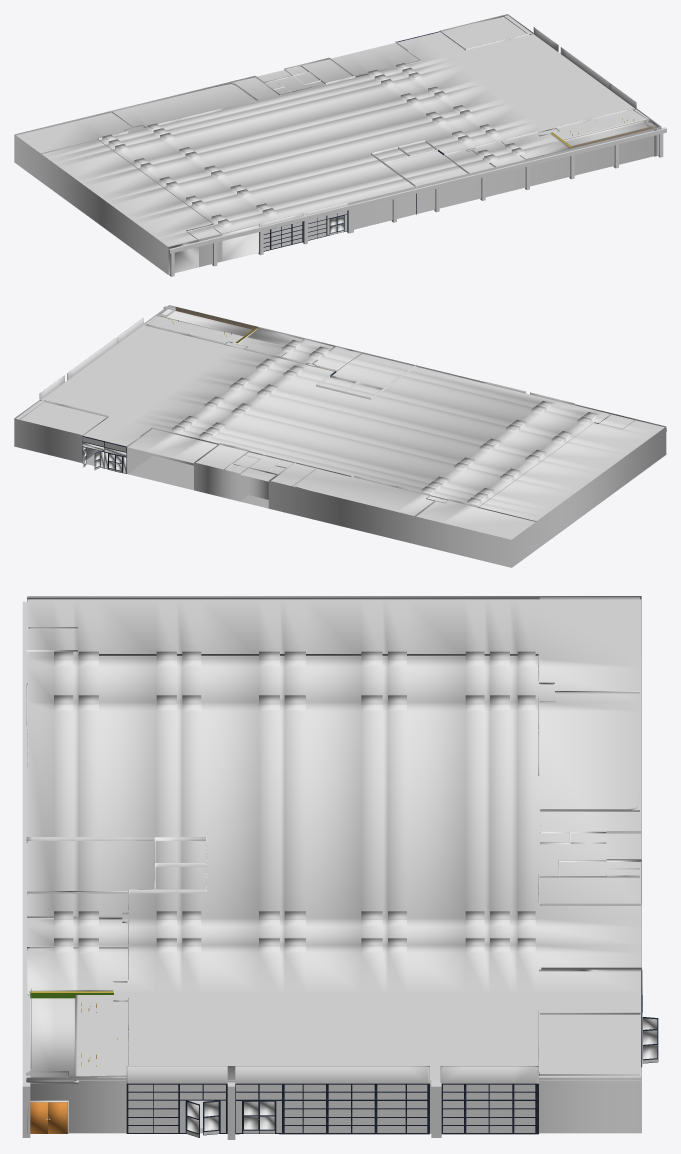
Rendered from tellus_arena.fbx.
3 renders of one model, top to bottom at view 1: azimuth 30°, elevation 25°; view 2: azimuth 150°, elevation 25°; view 3: azimuth 270°, elevation 25°, orthographic. The views are drawn at different scales.
Parts seen in each view (by area): view 1: ROOF.001, outerWalls, Pillars, walls, windows, tellus_windows.001; view 2: ROOF.001, outerWalls, windows, walls, FLOOR, r-aula_karmi.004; view 3: ROOF.001, tellus_windows.001, windows, outerWalls, walls, Pillars.
Boxes of the visible parts, <box> form: ROOF.001: <box>16,15,657,246</box>; outerWalls: <box>14,14,661,274</box>; Pillars: <box>169,52,666,276</box>; walls: <box>16,16,650,274</box>; windows: <box>98,27,636,252</box>; tellus_windows.001: <box>263,210,346,250</box>; ROOF.001: <box>16,306,664,539</box>; outerWalls: <box>14,305,666,567</box>; windows: <box>39,317,574,507</box>; walls: <box>19,308,635,521</box>; FLOOR: <box>86,450,666,567</box>; r-aula_karmi.004: <box>82,436,126,473</box>; ROOF.001: <box>27,599,641,1083</box>; tellus_windows.001: <box>128,1084,535,1133</box>; windows: <box>26,652,539,1134</box>; outerWalls: <box>26,596,641,1133</box>; walls: <box>27,597,642,1077</box>; Pillars: <box>22,601,441,1139</box>.
Bounding box in the file's own units: 6731 × 458 × 3717.
